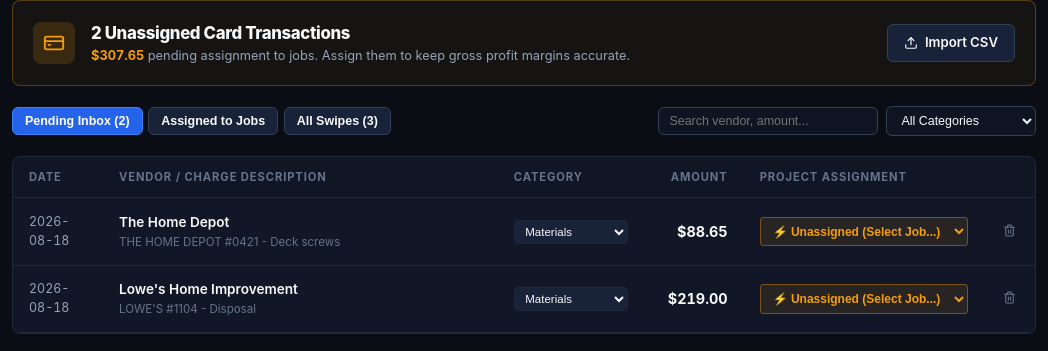
Test: TransactionInbox › shows the filed charges when asked for them
The image size is (1048, 351).
What coordinates should you click on to do the following:
click the button "Assigned to Jobs"
I would click on:
 (213, 121)
Its box is [148,107,278,135].
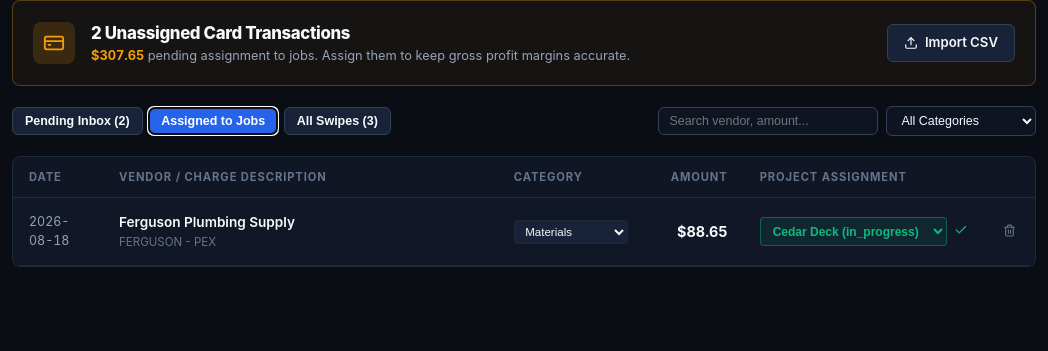
Result: the text "Ferguson Plumbing Supply" is shown at [119,214,295,230]
Result: the text "The Home Depot" is gone
